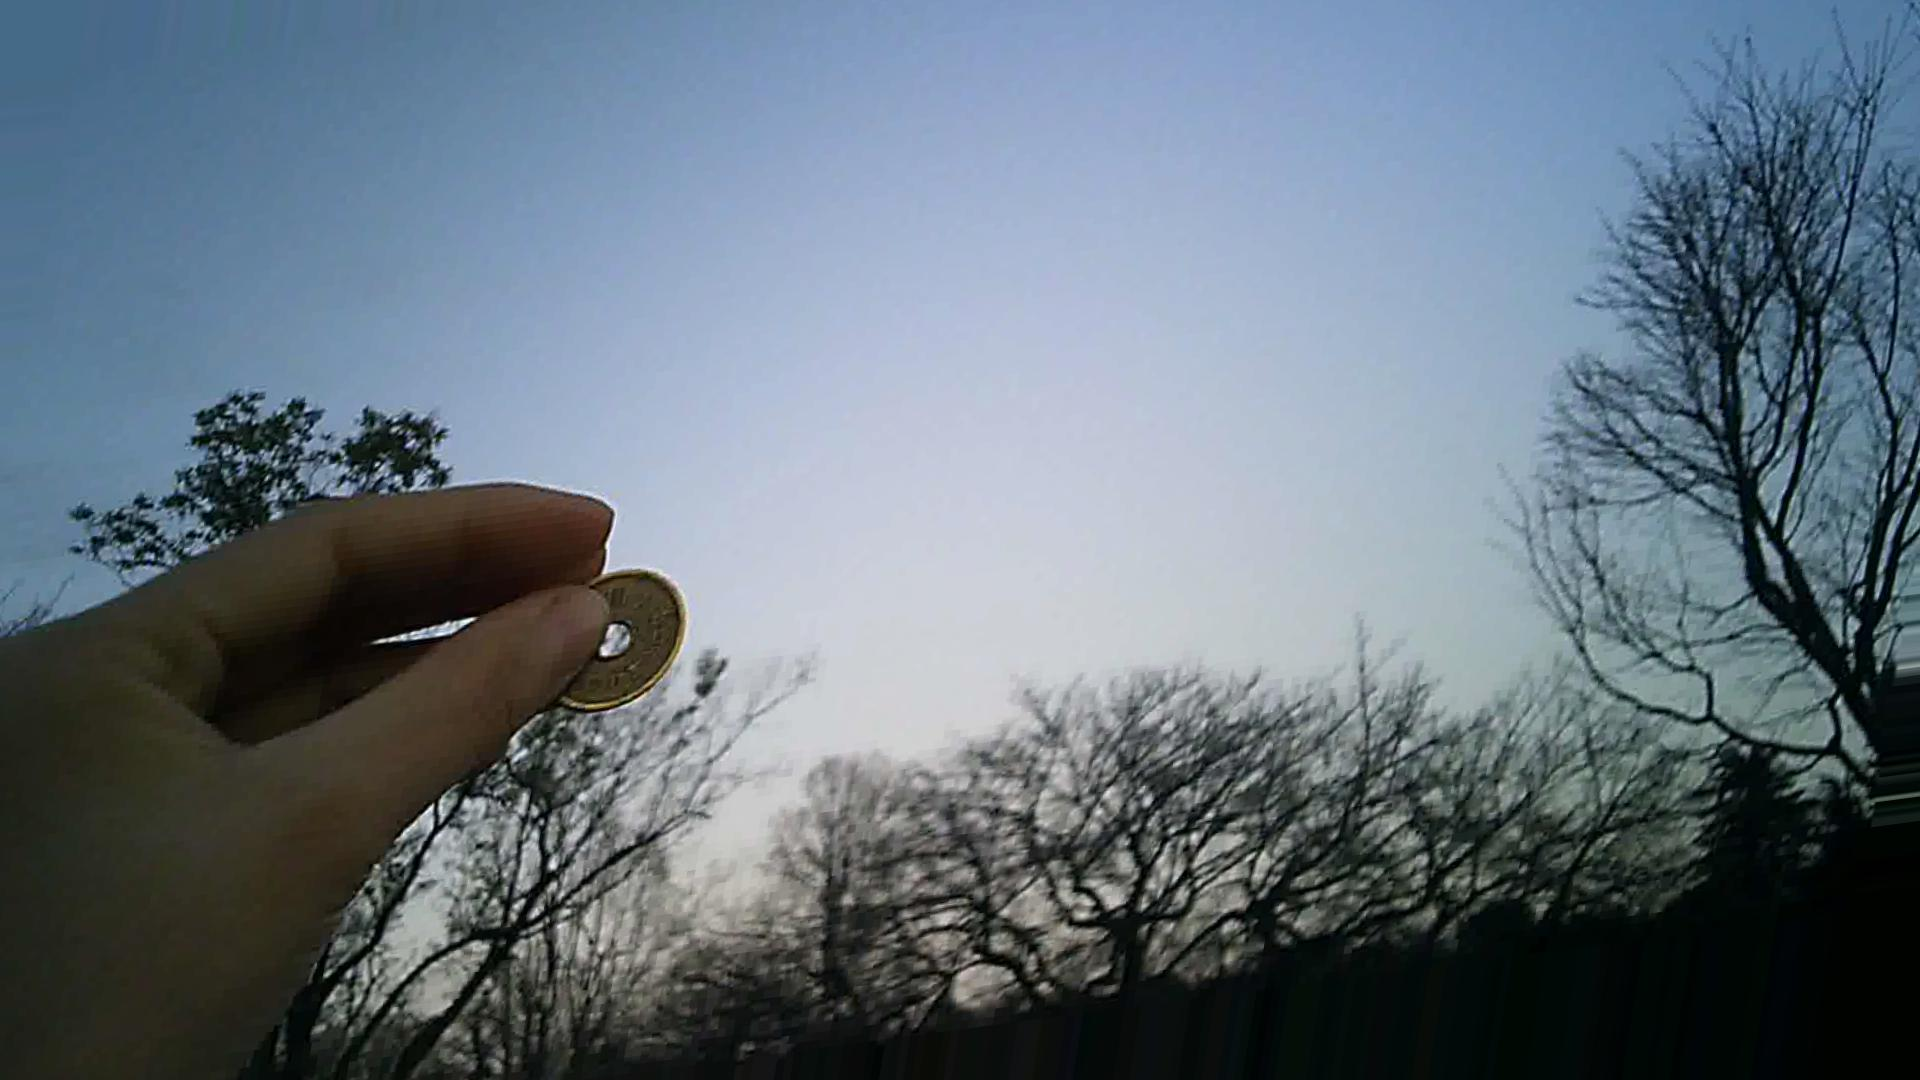5 Yen: (529, 553, 684, 717)
